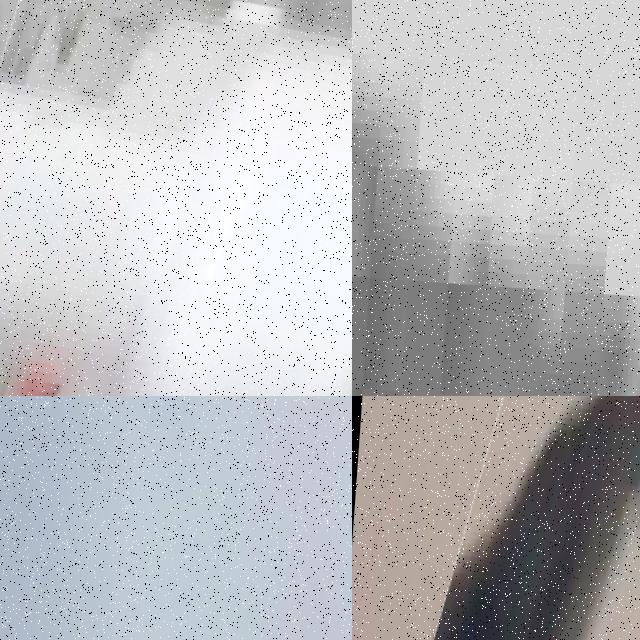drone: (0, 0, 352, 396), (404, 396, 640, 640)
